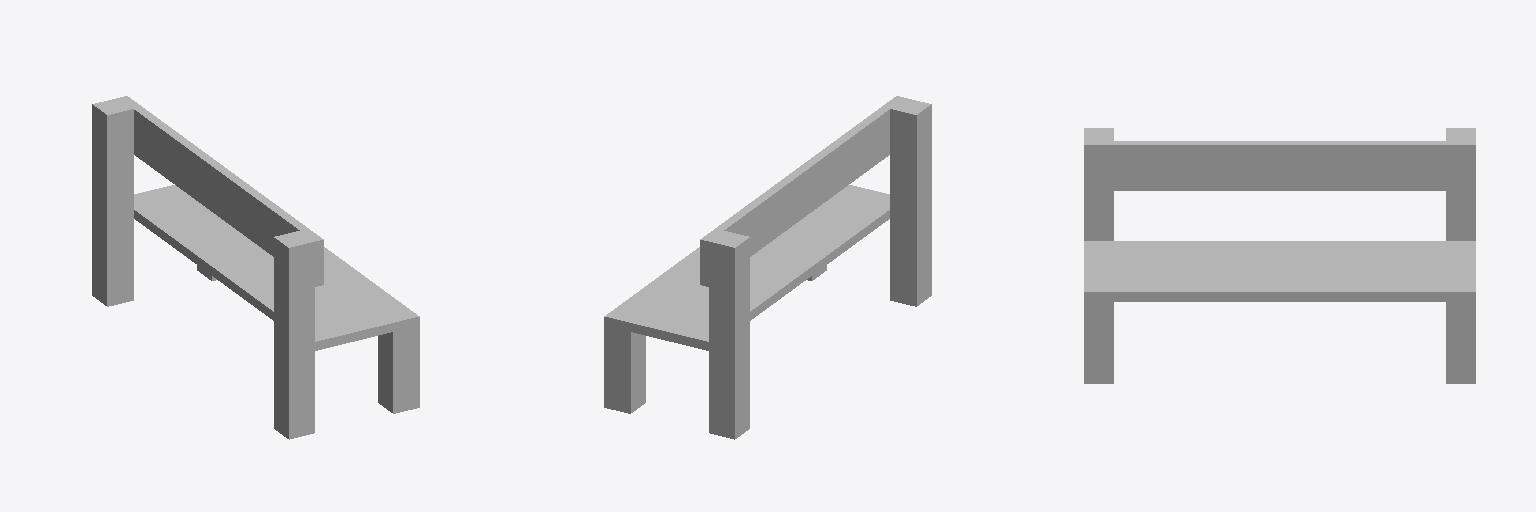
Rendered from Bench.obj.
3 views of the same model, side by side, from view 1: azimuth 30°, elevation 25°; view 2: azimuth 150°, elevation 25°; view 3: azimuth 270°, elevation 25° (orthographic).
Visible parts, largest first — view 1: object 1; view 2: object 1; view 3: object 1.
Part boxes in pixels (x1,y1,x2,y2): object 1: (92, 96, 419, 439); object 1: (604, 96, 931, 439); object 1: (1084, 128, 1475, 383).
Size of the model in its own units: 1.5 by 2.1 by 3.9.